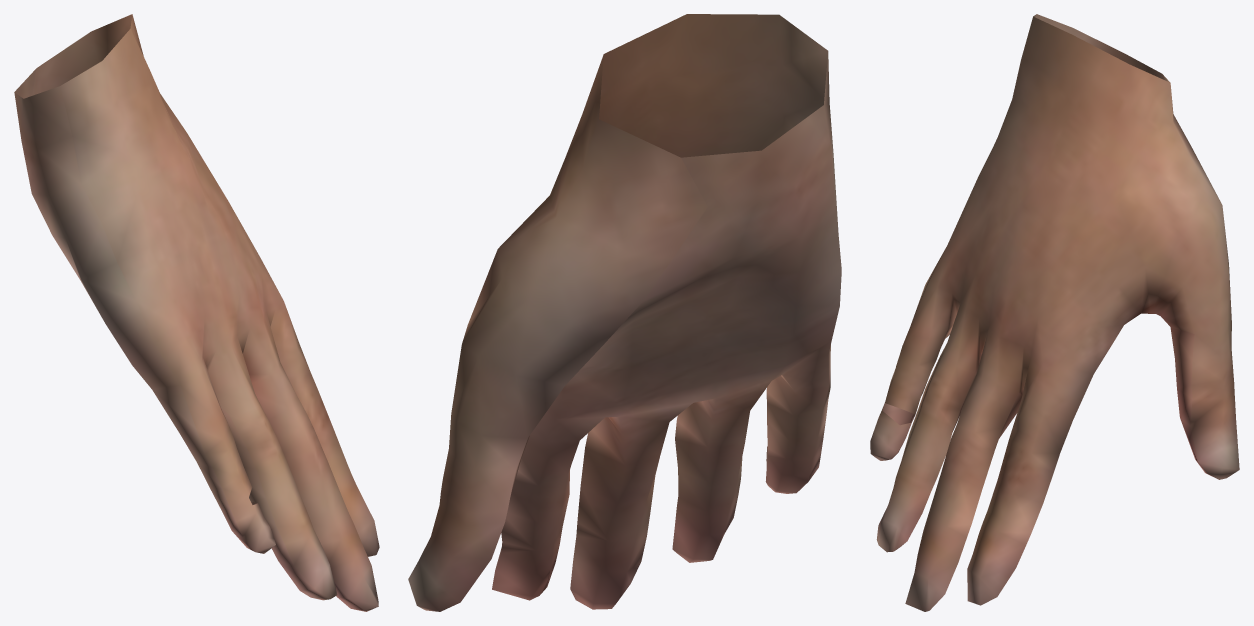
File: ManoDer.obj
3 views of the same model, side by side, from view 1: azimuth 30°, elevation 25°; view 2: azimuth 150°, elevation 25°; view 3: azimuth 270°, elevation 25° (orthographic). The views are drawn at different scales.
Visible parts, largest first — view 1: ManoDer; view 2: ManoDer; view 3: ManoDer.
Part boxes in pixels (bbox=[...]): ManoDer: bbox=[14, 14, 379, 611]; ManoDer: bbox=[408, 14, 841, 611]; ManoDer: bbox=[870, 14, 1239, 611].
Size of the model in its own units: 1.9 by 3.31 by 2.19.
Materials: 1 (1 with a texture image).
